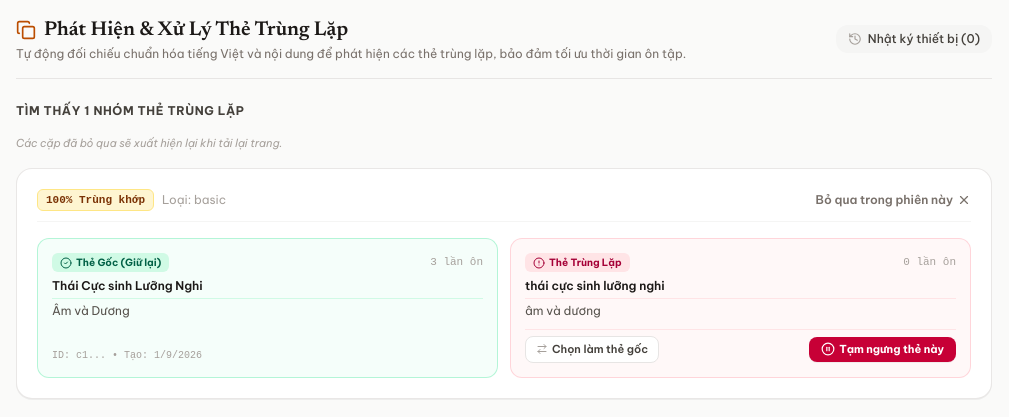
it: Phase F6.9: DuplicateDetectionDashboard Component › allows skipping a duplicate group
Expected: the text "Phát Hiện & Xử Lý Thẻ Trùng Lặp" is shown, x1=44 y1=16 x2=348 y2=44
Click the button "Bỏ qua trong phiên này" at {"x": 893, "y": 200}, box x1=816 y1=192 x2=971 y2=208
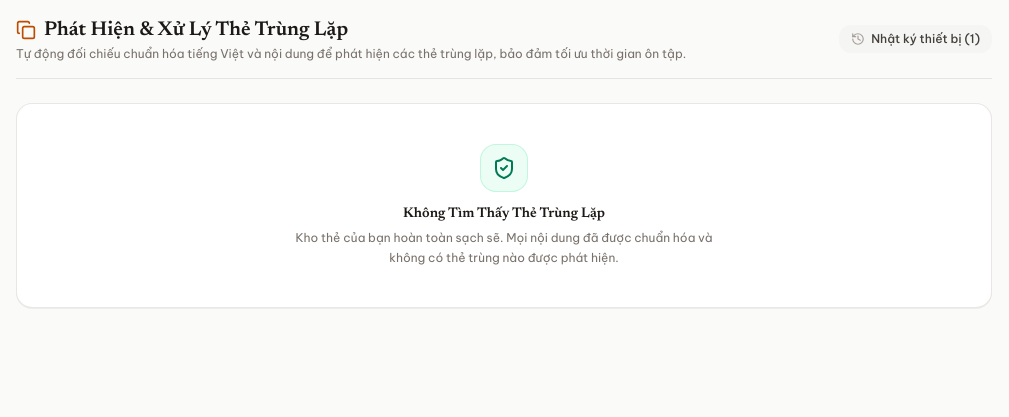
Expected: the heading "Không Tìm Thấy Thẻ Trùng Lặp" is shown, x1=403 y1=207 x2=605 y2=221
